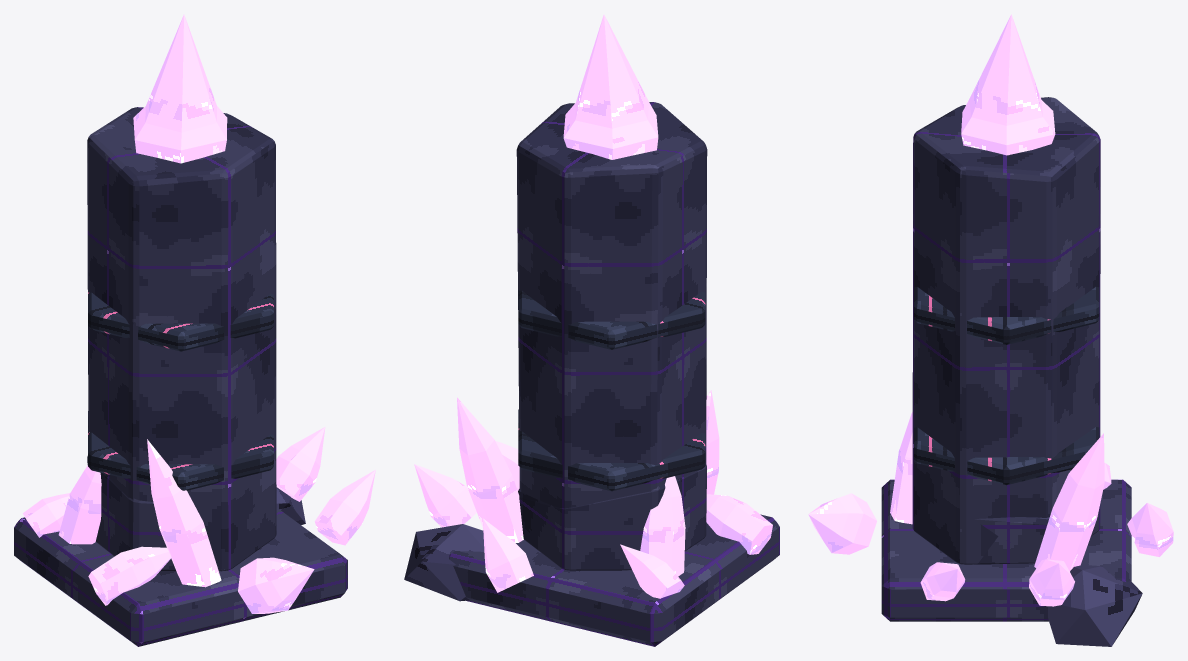
Rendered from psy_pillar.glb.
The picture shows the model from 3 angles, left to right: view 1: azimuth 30°, elevation 25°; view 2: azimuth 150°, elevation 25°; view 3: azimuth 270°, elevation 25°; orthographic projection.
Visible parts, largest first — view 1: Column, Base, Stub; view 2: Column, Base, Stub; view 3: Column, Base, Stub.
Part boxes in pixels (bbox=[...]): Column: bbox=[58, 14, 276, 587]; Base: bbox=[14, 487, 347, 646]; Stub: bbox=[23, 427, 375, 613]; Column: bbox=[457, 14, 719, 576]; Base: bbox=[404, 514, 779, 646]; Stub: bbox=[414, 441, 772, 598]; Column: bbox=[890, 14, 1104, 571]; Base: bbox=[881, 479, 1142, 646]; Stub: bbox=[808, 463, 1173, 606].
Bounding box in the file's own units: 2.82 × 5.2 × 3.07.
4 materials, 4 textured.
